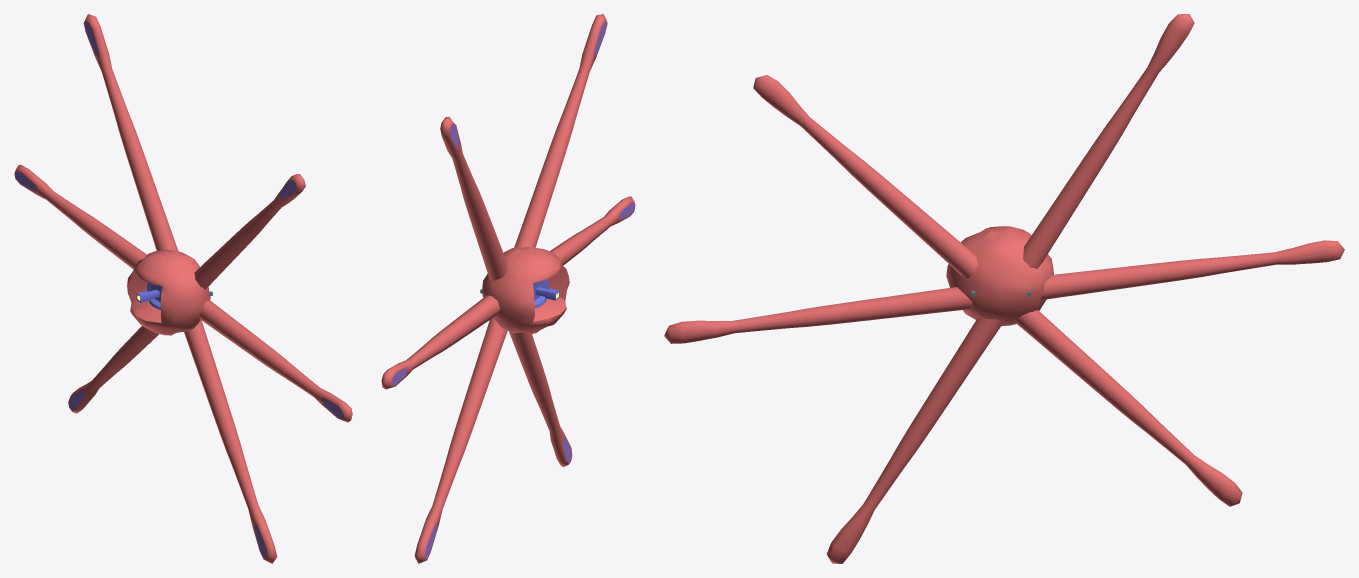
File: Enem001_Animated.fbx
3 views of the same model, side by side, from view 1: azimuth 30°, elevation 25°; view 2: azimuth 150°, elevation 25°; view 3: azimuth 270°, elevation 25° (orthographic). The views are drawn at different scales.
Parts seen in each view (by area): view 1: PR_PlanetBody, PR_Tentacle.005, PR_Tentacle.002, PR_Tentacle.004, PR_Tentacle, PR_Tentacle.003, PR_Tentacle.001, PR_PlanetCockpit; view 2: PR_PlanetBody, PR_Tentacle.001, PR_Tentacle.003, PR_Tentacle.002, PR_Tentacle, PR_Tentacle.005, PR_Tentacle.004, PR_PlanetCockpit; view 3: PR_PlanetBody, PR_Tentacle.004, PR_Tentacle.002, PR_Tentacle, PR_Tentacle.003, PR_Tentacle.005, PR_Tentacle.001.
Boxes of the visible parts, box(x1,y1,x2,y2) form: PR_PlanetBody: box(127, 250, 210, 335); PR_Tentacle.005: box(184, 320, 277, 563); PR_Tentacle.002: box(83, 14, 178, 251); PR_Tentacle.004: box(199, 300, 352, 422); PR_Tentacle: box(14, 165, 146, 269); PR_Tentacle.003: box(194, 174, 305, 289); PR_Tentacle.001: box(68, 326, 158, 413); PR_PlanetCockpit: box(136, 282, 162, 309); PR_PlanetBody: box(482, 247, 569, 334); PR_Tentacle.001: box(414, 318, 507, 563); PR_Tentacle.003: box(514, 14, 607, 247); PR_Tentacle.002: box(440, 116, 507, 280); PR_Tentacle: box(381, 295, 500, 389); PR_Tentacle.005: box(509, 331, 572, 466); PR_Tentacle.004: box(550, 196, 635, 265); PR_PlanetCockpit: box(533, 279, 559, 307); PR_PlanetBody: box(946, 226, 1053, 326); PR_Tentacle.004: box(664, 287, 972, 343); PR_Tentacle.002: box(1023, 14, 1194, 268); PR_Tentacle: box(1040, 240, 1344, 300); PR_Tentacle.003: box(753, 75, 978, 278); PR_Tentacle.005: box(826, 317, 1002, 563); PR_Tentacle.001: box(1014, 310, 1242, 506).
Bounding box in the file's own units: 228 × 1264 × 1471.
